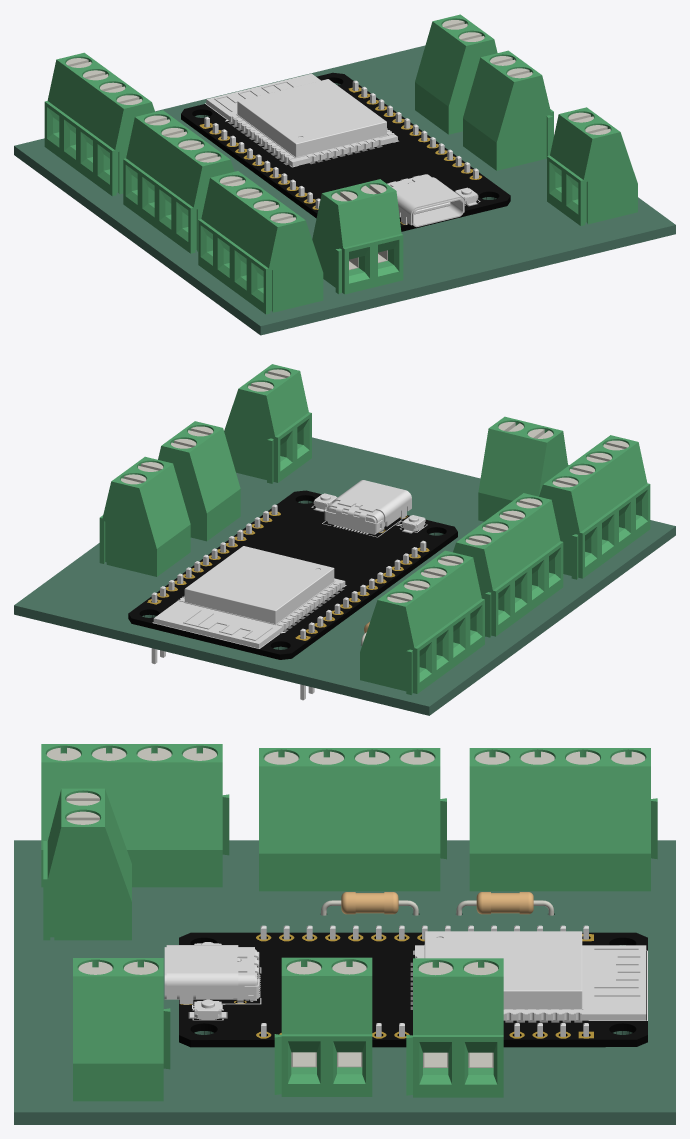
The model's file is Locus.glb.
3 views of the same model, one above another, from view 1: azimuth 30°, elevation 25°; view 2: azimuth 150°, elevation 25°; view 3: azimuth 270°, elevation 25° (orthographic). The views are drawn at different scales.
Parts seen in each view (by area): view 1: =>[0:1:1:31], =>[0:1:1:30] (×3), =>[0:1:1:3] (×4), TEST_ESP32 (Compound) (×5), TEST_ESP32 (Face) (×2); view 2: =>[0:1:1:31], =>[0:1:1:30] (×3), =>[0:1:1:3] (×4), TEST_ESP32 (Compound) (×5), TEST_ESP32 (Face) (×2); view 3: =>[0:1:1:31], =>[0:1:1:30] (×3), =>[0:1:1:3] (×4), TEST_ESP32 (Compound) (×6), TEST_ESP32 (Face) (×2), =>[0:1:1:28] (×2).
Part boxes in pixels (x1=…): =>[0:1:1:31]: x1=14, y1=45, x2=675, y2=335; =>[0:1:1:30] (×3): x1=44, y1=52, x2=323, y2=314; =>[0:1:1:3] (×4): x1=312, y1=14, x2=637, y2=294; TEST_ESP32 (Compound) (×5): x1=181, y1=73, x2=510, y2=231; TEST_ESP32 (Face) (×2): x1=181, y1=72, x2=510, y2=226; =>[0:1:1:31]: x1=14, y1=437, x2=675, y2=715; =>[0:1:1:30] (×3): x1=360, y1=435, x2=650, y2=694; =>[0:1:1:3] (×4): x1=99, y1=364, x2=569, y2=576; TEST_ESP32 (Compound) (×5): x1=128, y1=480, x2=457, y2=700; TEST_ESP32 (Face) (×2): x1=128, y1=490, x2=457, y2=654; =>[0:1:1:31]: x1=14, y1=840, x2=675, y2=1124; =>[0:1:1:30] (×3): x1=41, y1=744, x2=657, y2=891; =>[0:1:1:3] (×4): x1=43, y1=788, x2=503, y2=1101; TEST_ESP32 (Compound) (×6): x1=164, y1=925, x2=647, y2=1047; TEST_ESP32 (Face) (×2): x1=179, y1=932, x2=647, y2=1039; =>[0:1:1:28] (×2): x1=321, y1=892, x2=553, y2=915.
Bounding box in the file's own units: 0.071 × 0.0231 × 0.073.
